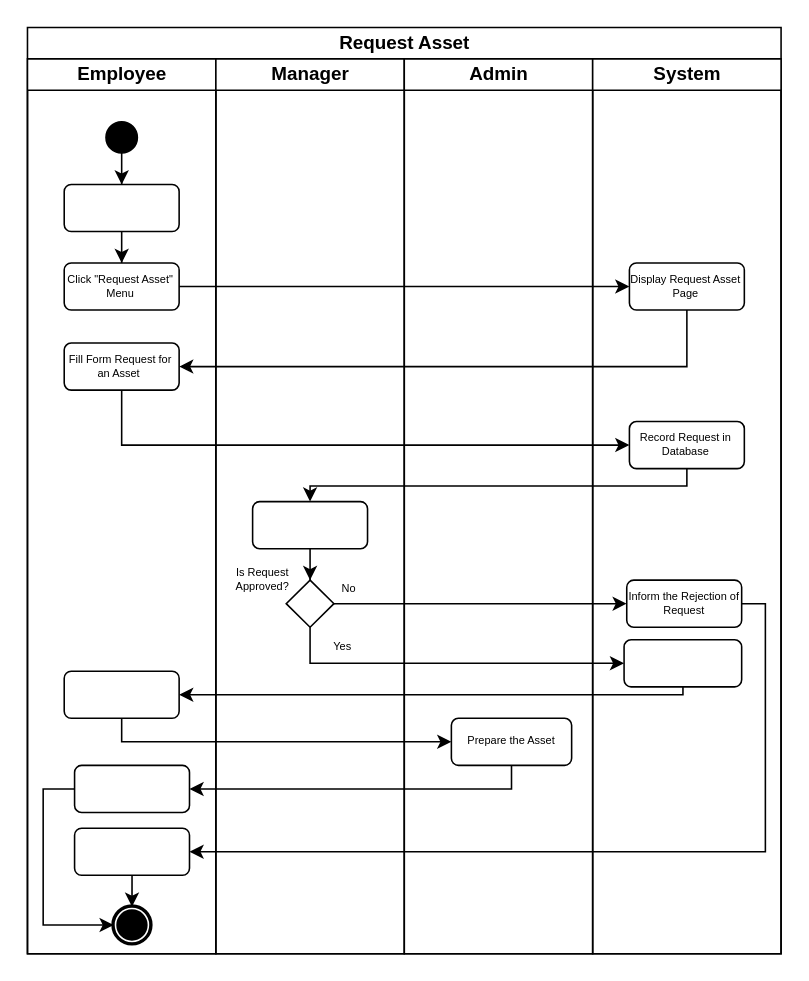
Some shapes in this 809 by 981 pixel diagram are drawn without their labels. The centre of each missing label's shape, as x and y in pixels:
"Check Request" belongs at point (309, 524).
"Inform the Acceptance of Request" belongs at point (682, 662).
"Login" belongs at point (121, 207).
"Receive Acceptance Notification" belongs at point (121, 694).
"Receive Reject Notification" belongs at point (131, 851).
"Take the Asset" belongs at point (131, 788).
